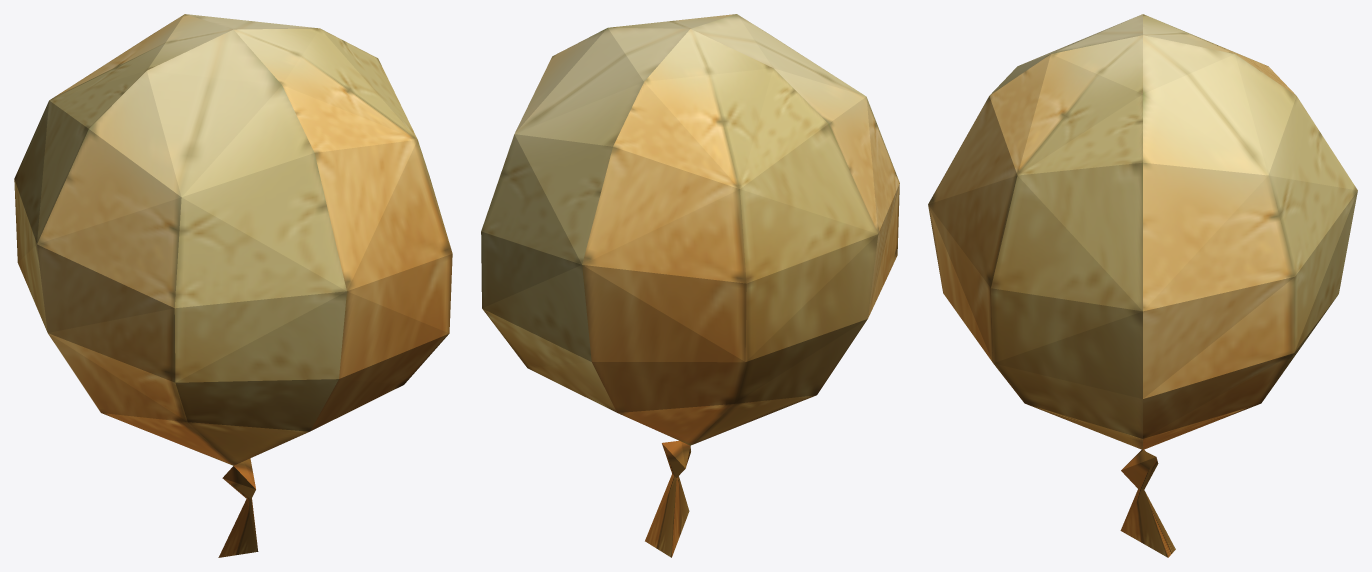
File: Balloond.fbx
The picture shows the model from 3 angles, left to right: view 1: azimuth 30°, elevation 25°; view 2: azimuth 150°, elevation 25°; view 3: azimuth 270°, elevation 25°; orthographic projection. The views are drawn at different scales.
Visible parts, largest first — view 1: Submesh @ pos mount_50|0x00400130[0x00400134]_OBJECT_OBJECT; view 2: Submesh @ pos mount_50|0x00400130[0x00400134]_OBJECT_OBJECT; view 3: Submesh @ pos mount_50|0x00400130[0x00400134]_OBJECT_OBJECT.
Boxes of the visible parts, x1,y1,x2,y2 form: Submesh @ pos mount_50|0x00400130[0x00400134]_OBJECT_OBJECT: [14, 14, 452, 557]; Submesh @ pos mount_50|0x00400130[0x00400134]_OBJECT_OBJECT: [481, 14, 899, 557]; Submesh @ pos mount_50|0x00400130[0x00400134]_OBJECT_OBJECT: [928, 14, 1357, 557].
Bounding box in the file's own units: 312 × 411 × 312.
1 material, 1 textured.
